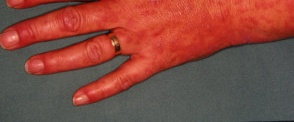SJS-TEN: (90, 0, 294, 83)
